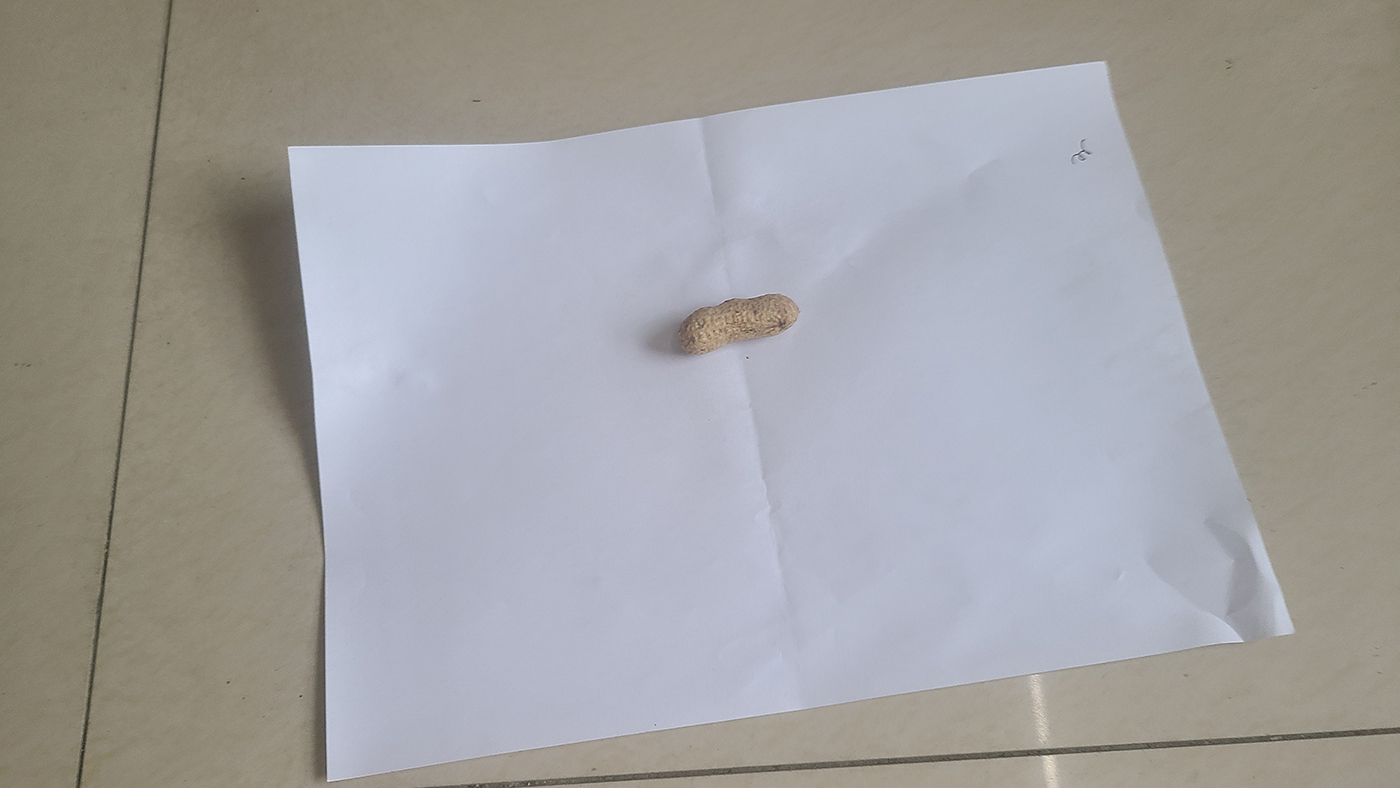h: (676, 290, 802, 359)
